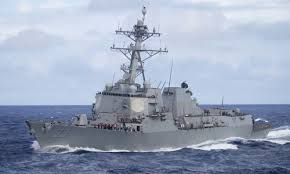tau_muctieu: (25, 24, 264, 144)
